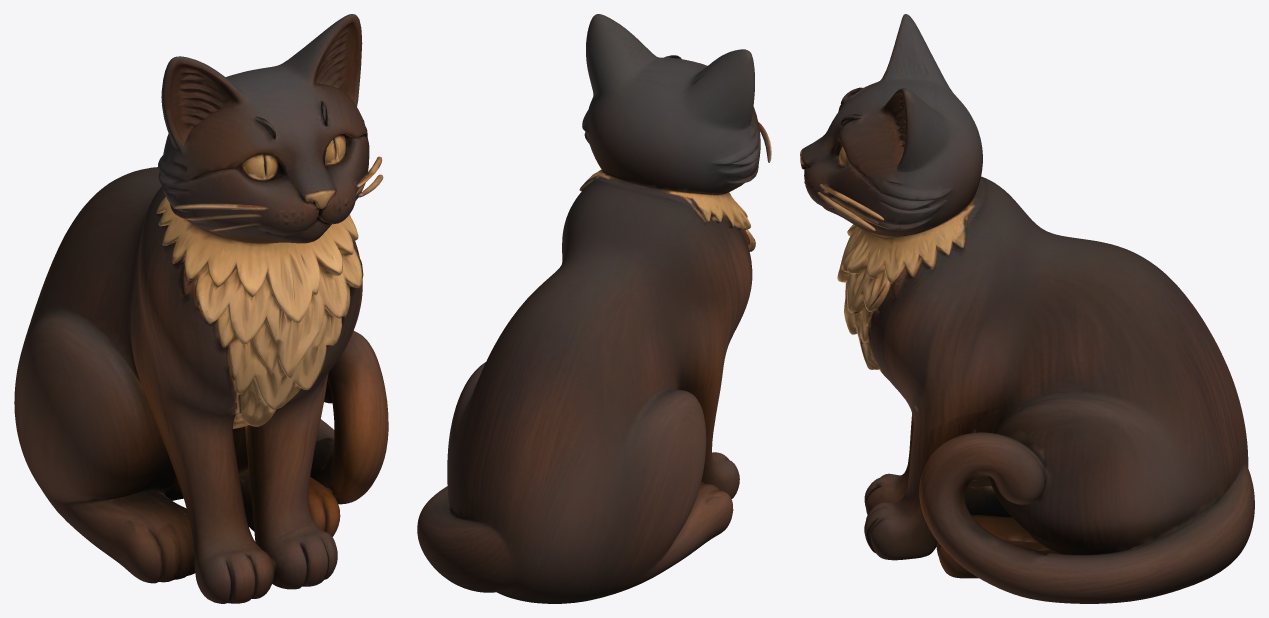
File: cat.glb
3 views of the same model, side by side, from view 1: azimuth 30°, elevation 25°; view 2: azimuth 150°, elevation 25°; view 3: azimuth 270°, elevation 25° (orthographic). The views are drawn at different scales.
Parts seen in each view (by area): view 1: node_0; view 2: node_0; view 3: node_0.
Part boxes in pixels (<box>): node_0: <box>14,14,388,603</box>; node_0: <box>417,14,771,603</box>; node_0: <box>800,14,1254,603</box>.
Size of the model in its own units: 0.5351 by 0.9684 by 0.8181.
1 material, 1 textured.
